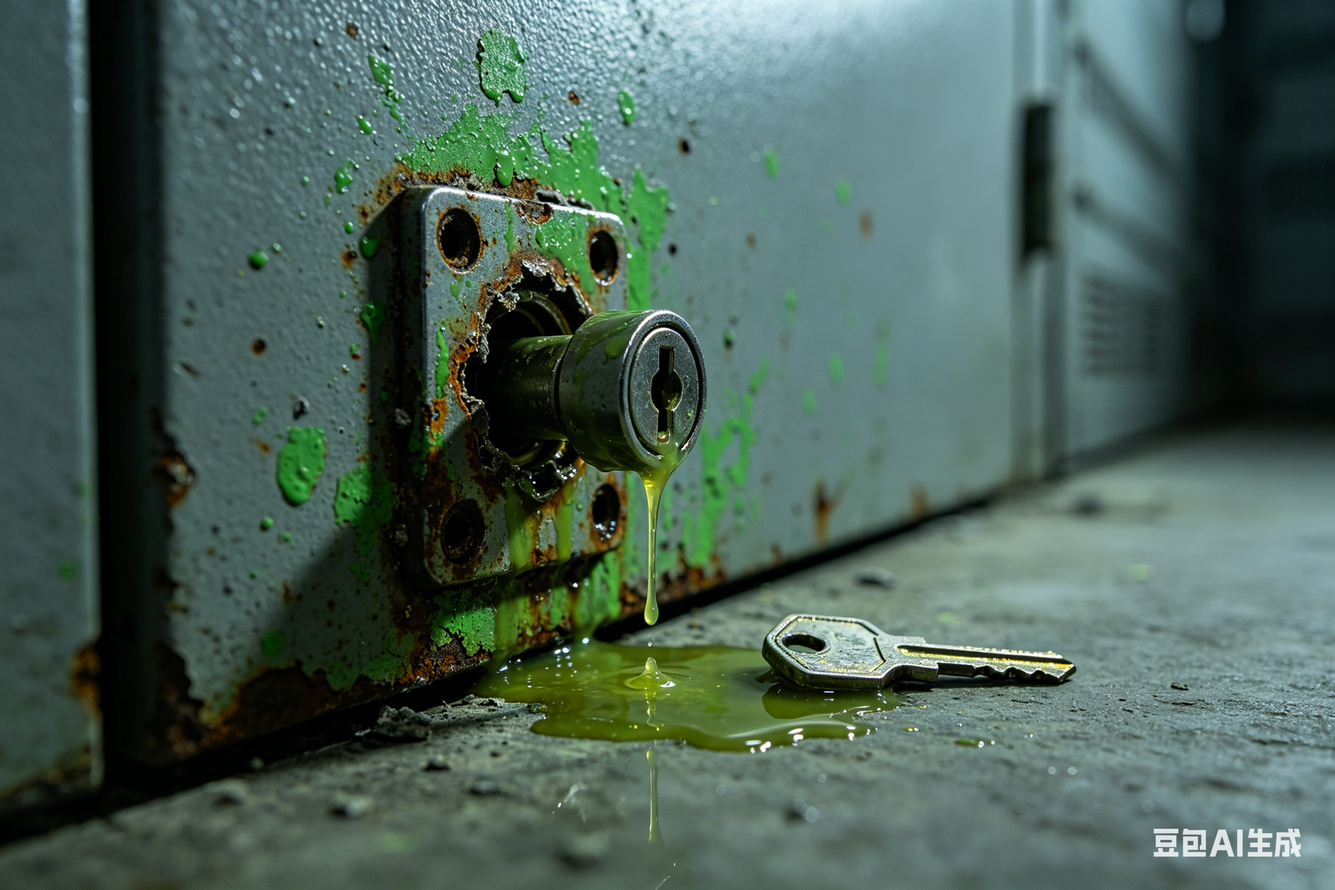BadLock: (431, 267, 604, 508)
